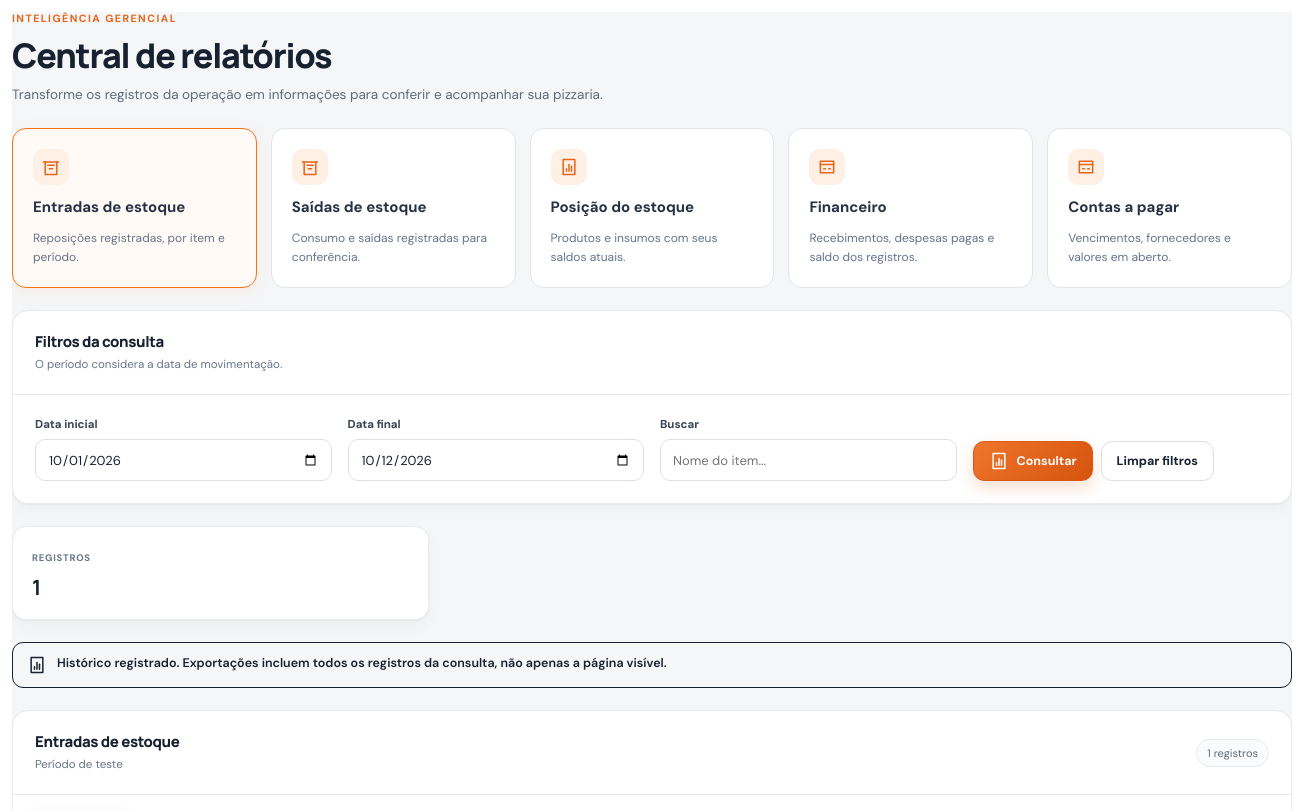
posição atual desativa datas e remove período da requisição
The image size is (1304, 811).
Click the button "Posição do estoque". click: (652, 208)
box: x1=530 y1=128 x2=774 y2=288
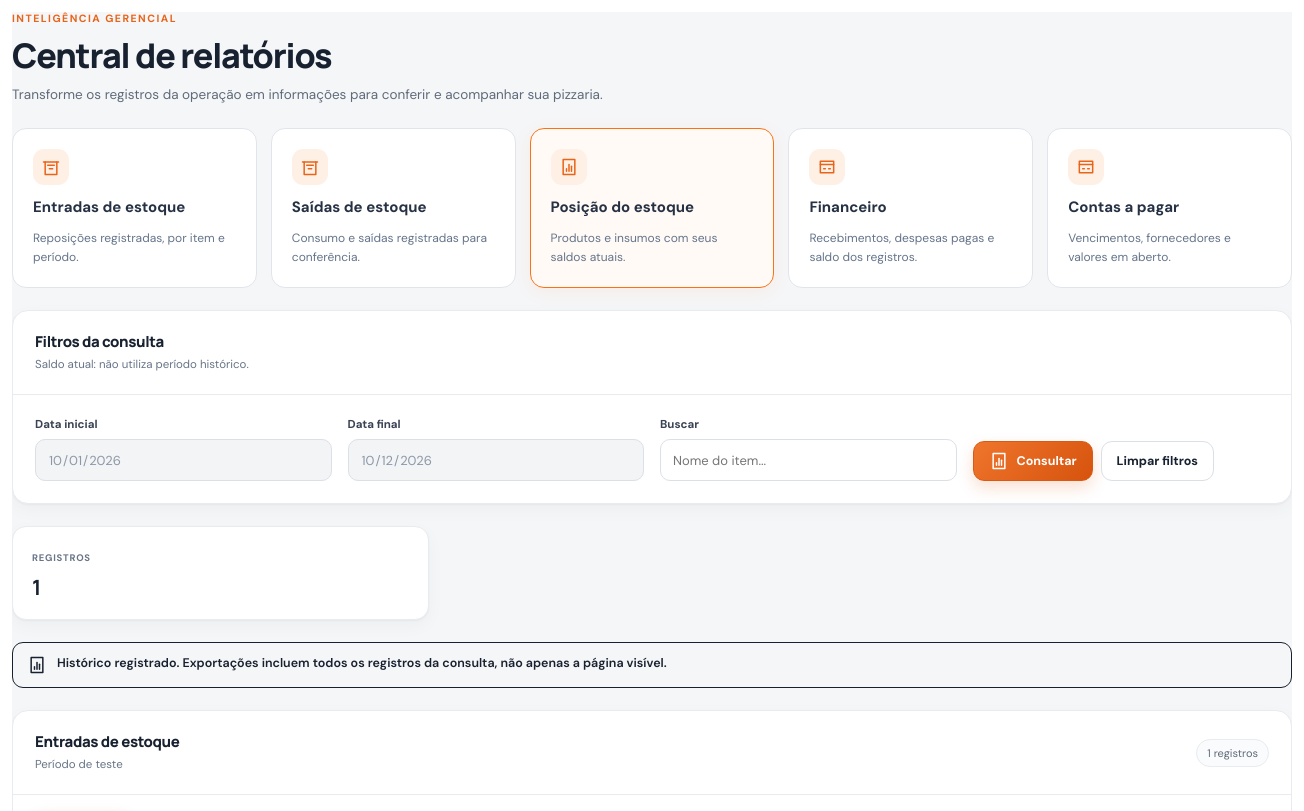
Now the date field labelled "Data inicial" is disabled, box x1=35 y1=439 x2=332 y2=481
